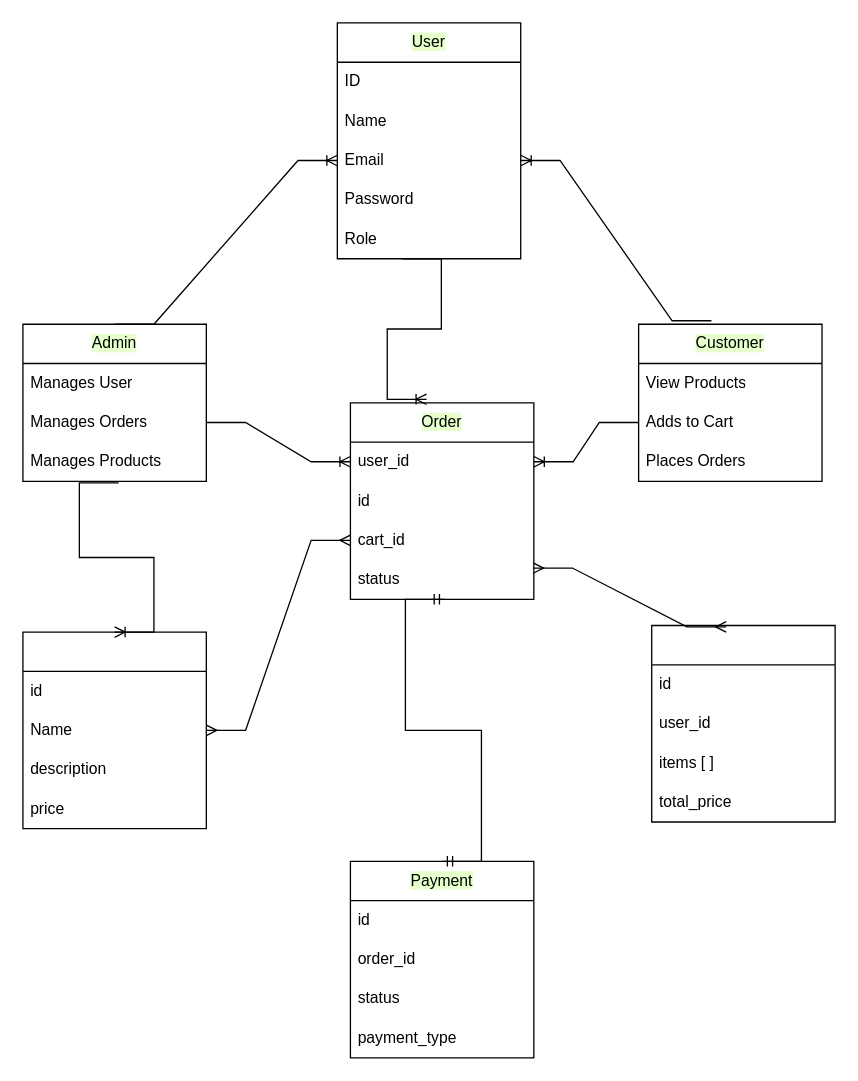
The diagram is 858 pixels wide and 1081 high, and some of its shapes have lost their labels. Each missing label, with the box of its shape:
Cart: (650, 624, 835, 822)
Product: (22, 631, 206, 829)
